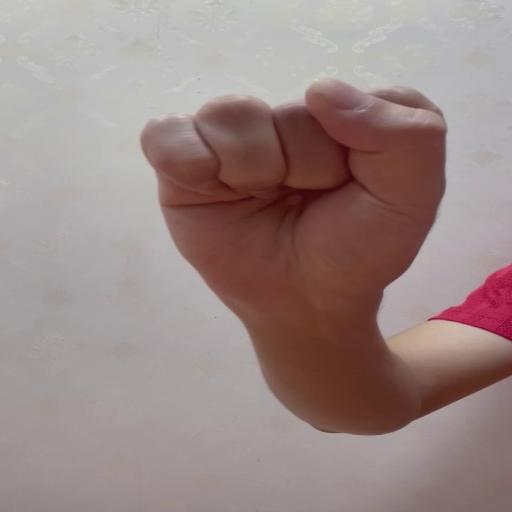fist: (139, 74, 448, 302)
